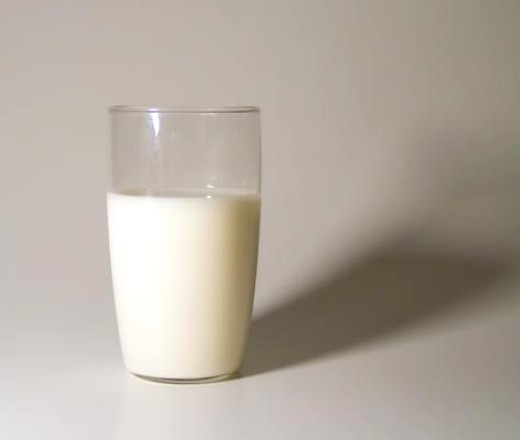glass of milk: (116, 121, 248, 379)
